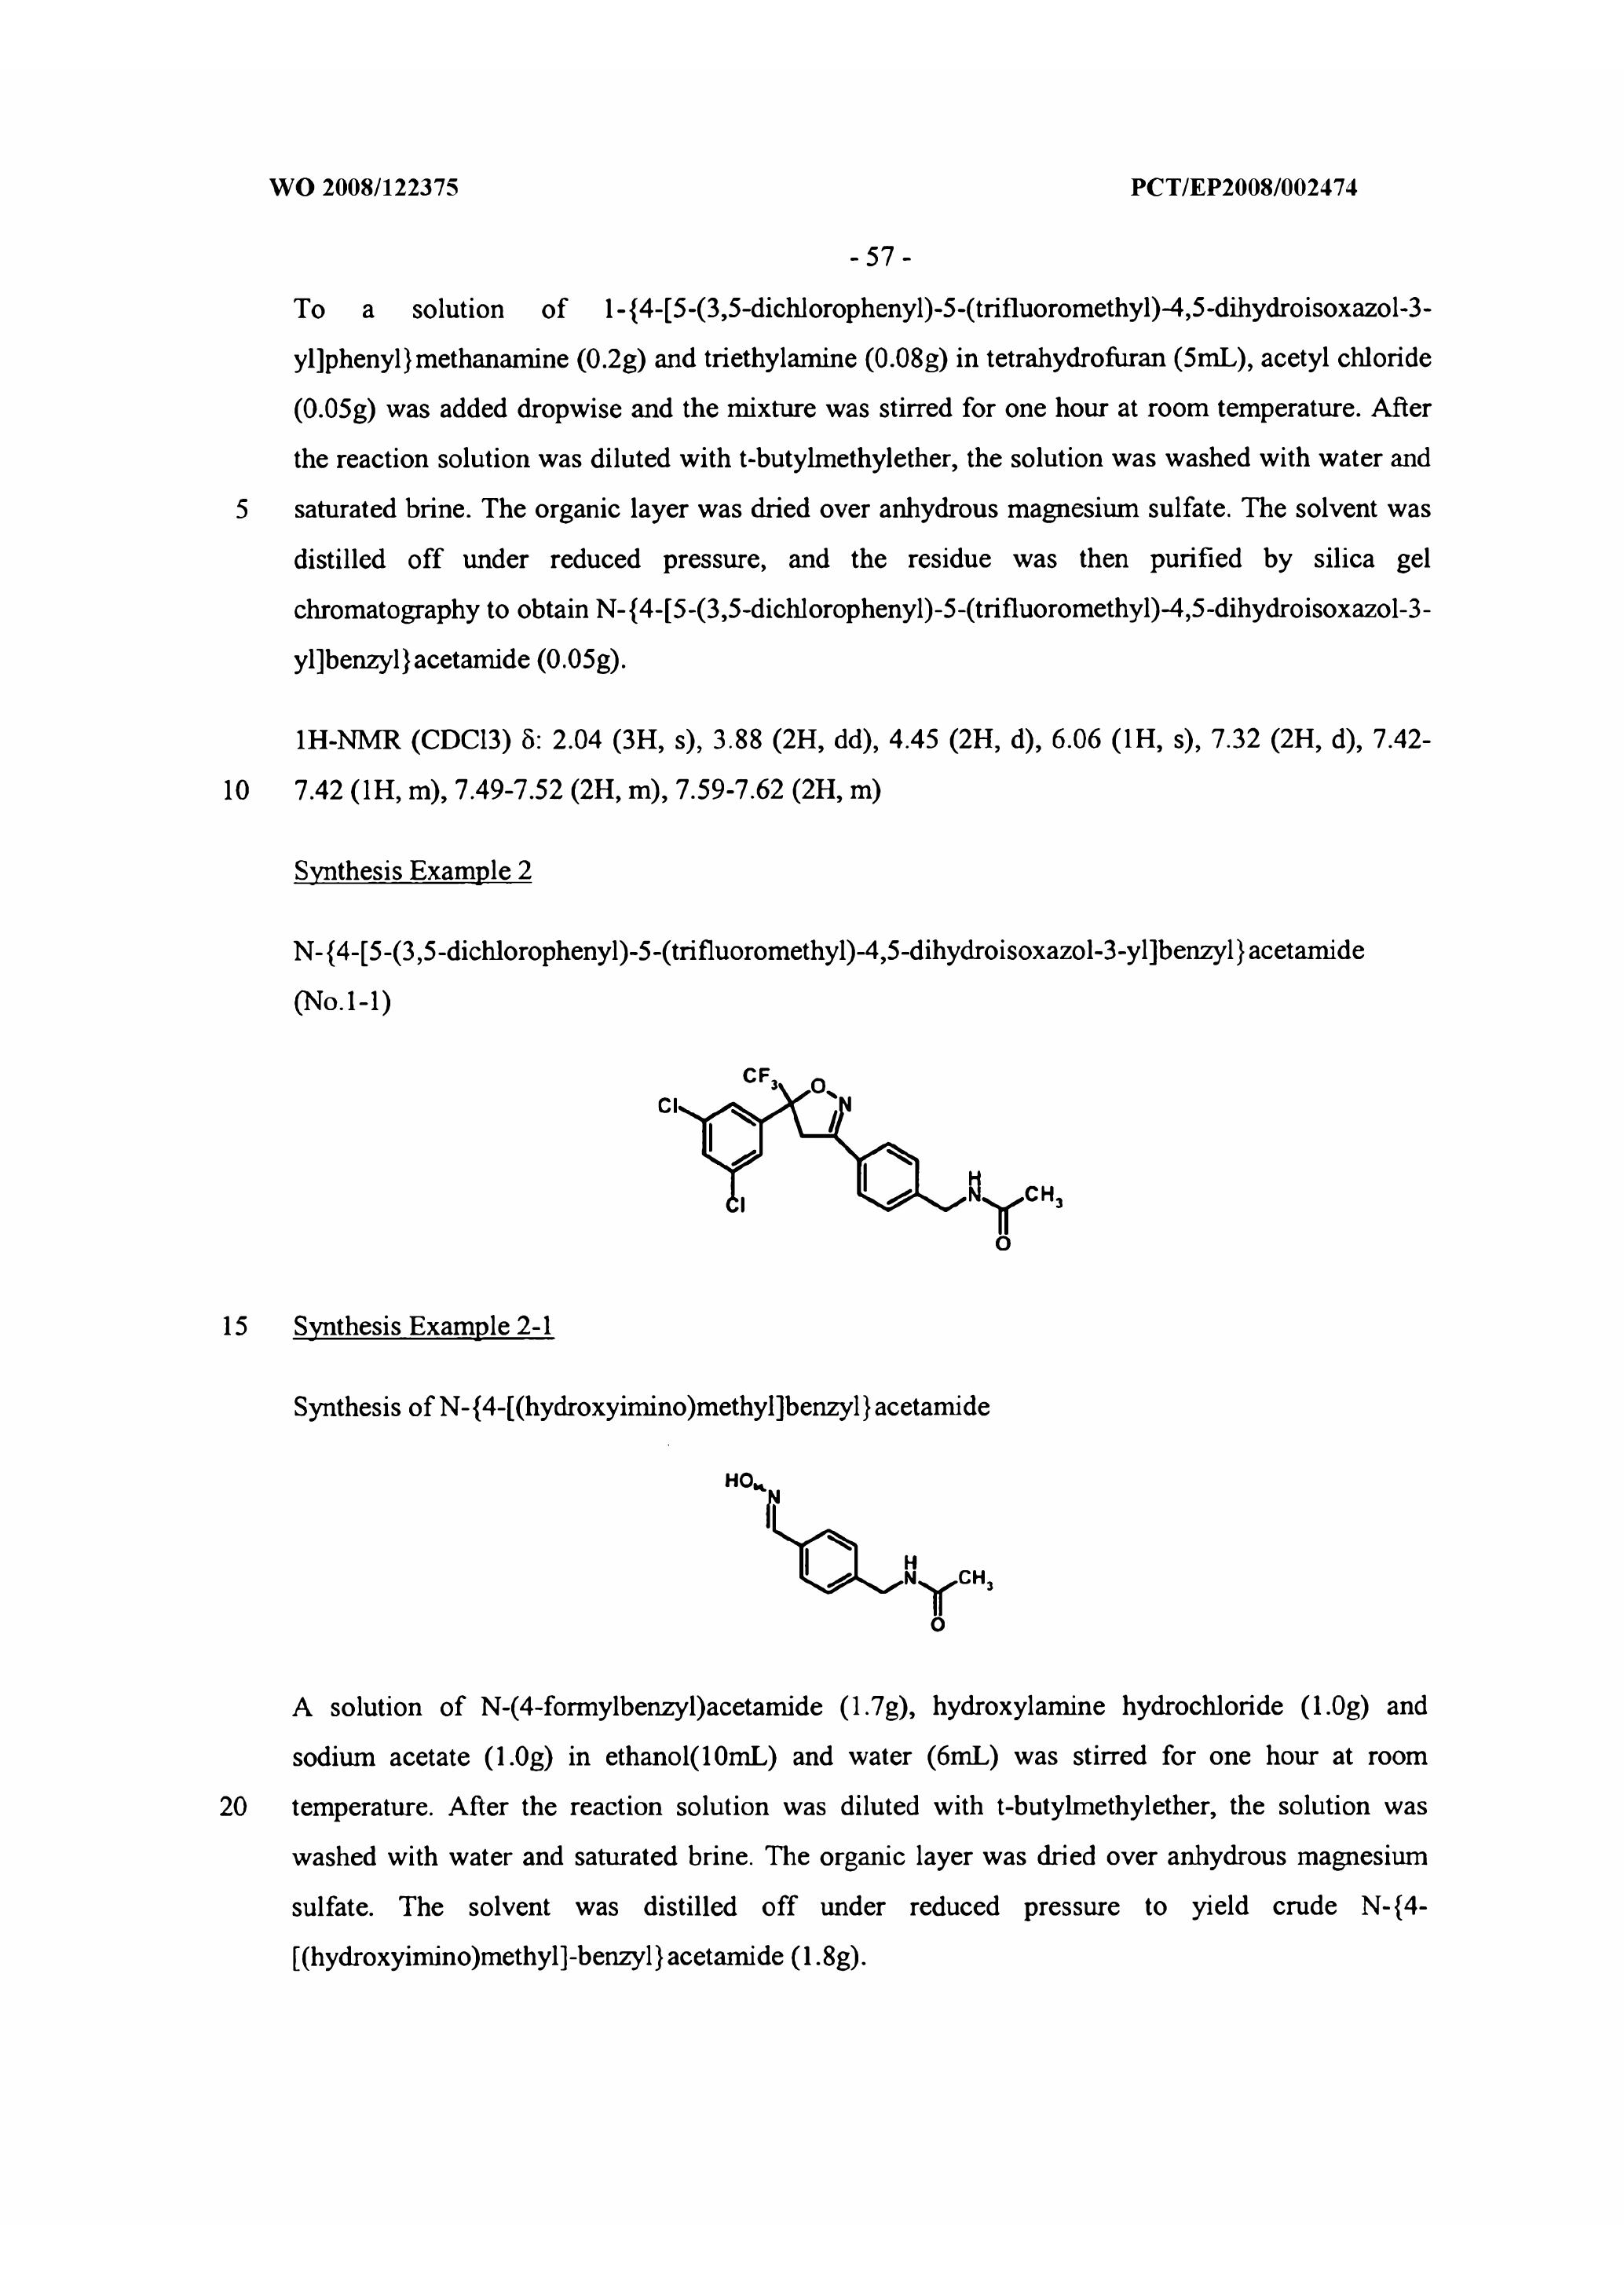intermediates: (715, 1433, 1077, 1663)
relevant-structures: (589, 1007, 1123, 1292)
